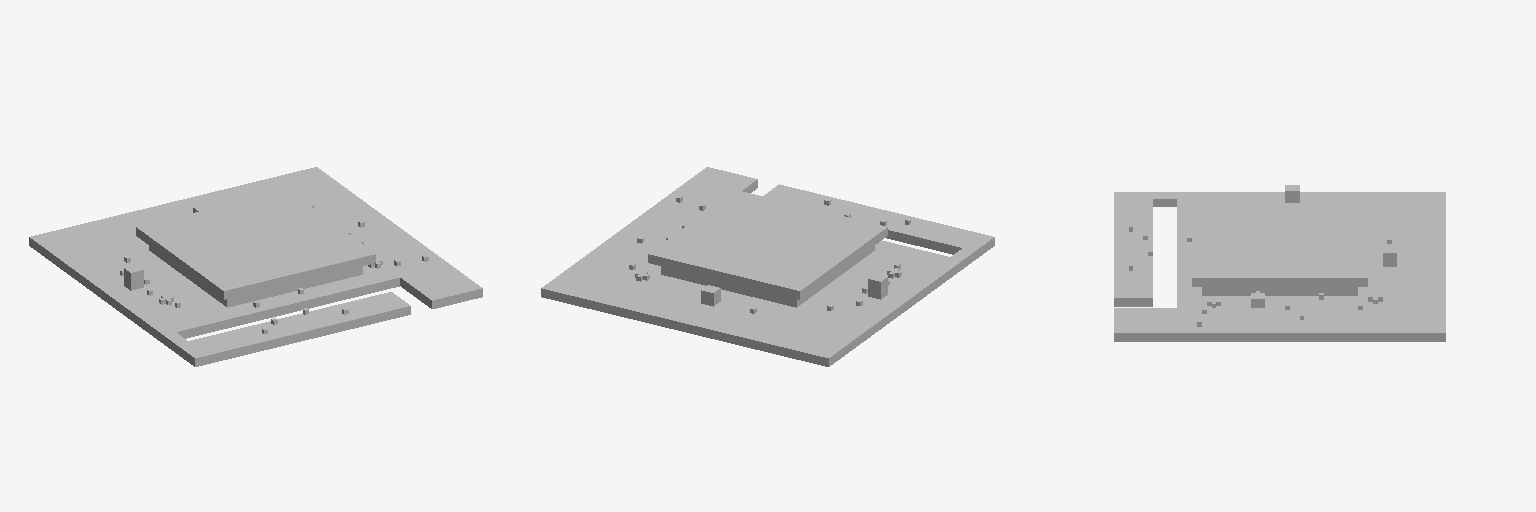
File: Ground.obj
3 renders of one model, left to right at view 1: azimuth 30°, elevation 25°; view 2: azimuth 150°, elevation 25°; view 3: azimuth 270°, elevation 25°, orthographic.
Visible parts, largest first — view 1: Ground; view 2: Ground; view 3: Ground.
Boxes of the visible parts, <box> form: Ground: <box>29,167,482,366</box>; Ground: <box>541,167,994,366</box>; Ground: <box>1114,185,1445,341</box>.
Bounding box in the file's own units: 68 × 7 × 68.